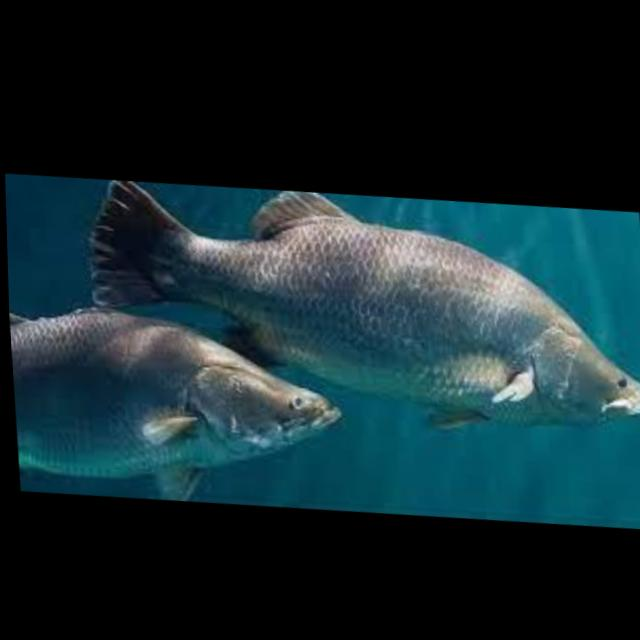Seabass: (83, 157, 640, 459), (8, 283, 347, 521)
